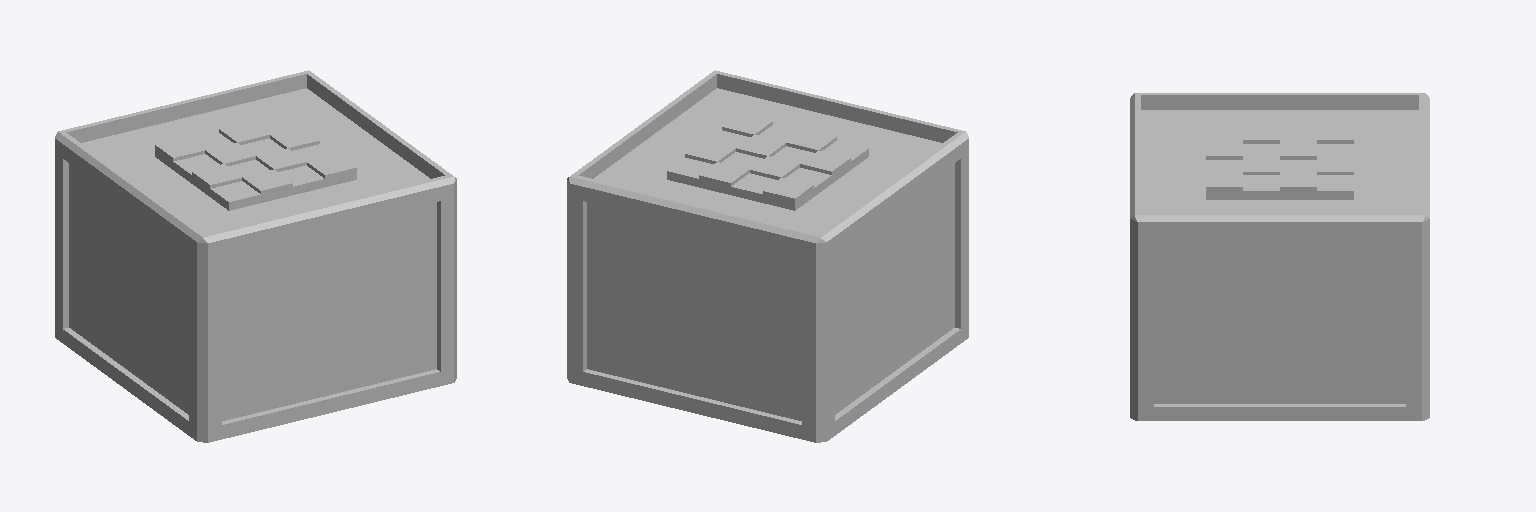
The model's file is crate.obj.
3 views of the same model, side by side, from view 1: azimuth 30°, elevation 25°; view 2: azimuth 150°, elevation 25°; view 3: azimuth 270°, elevation 25° (orthographic).
Visible parts, largest first — view 1: Plane.001; view 2: Plane.001; view 3: Plane.001.
Part boxes in pixels (x1,y1,x2,y2): Plane.001: (55,70,456,442); Plane.001: (567,70,968,442); Plane.001: (1130,93,1429,420).
Size of the model in its own units: 4 by 3 by 4.